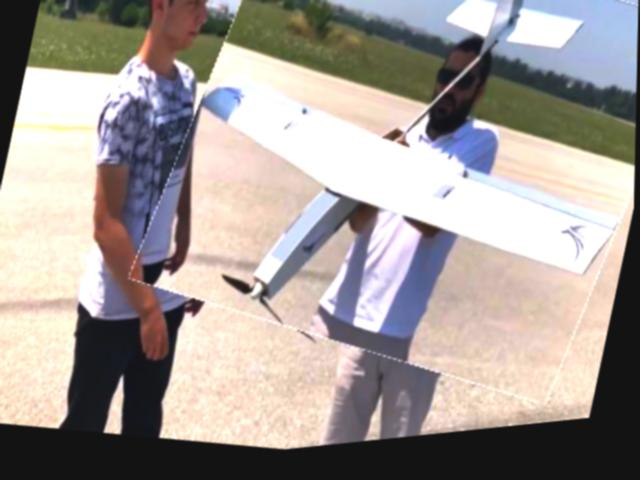insansiz-hava-araci: (130, 0, 640, 440)
